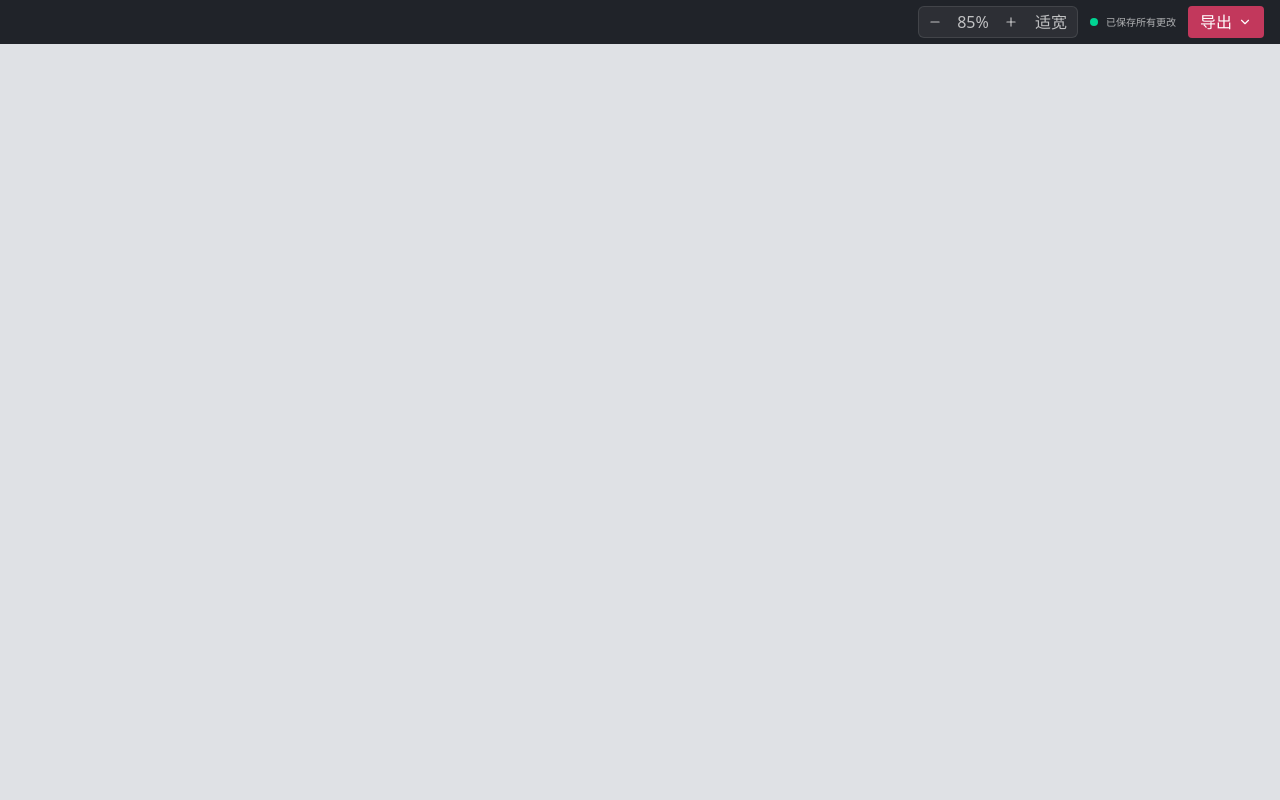
BlockNoteCanvasToolbar › closes on Escape or an outside pointer and restores focus on Escape
Click the button "导出" at (1226, 22), box [1188,6,1264,38]
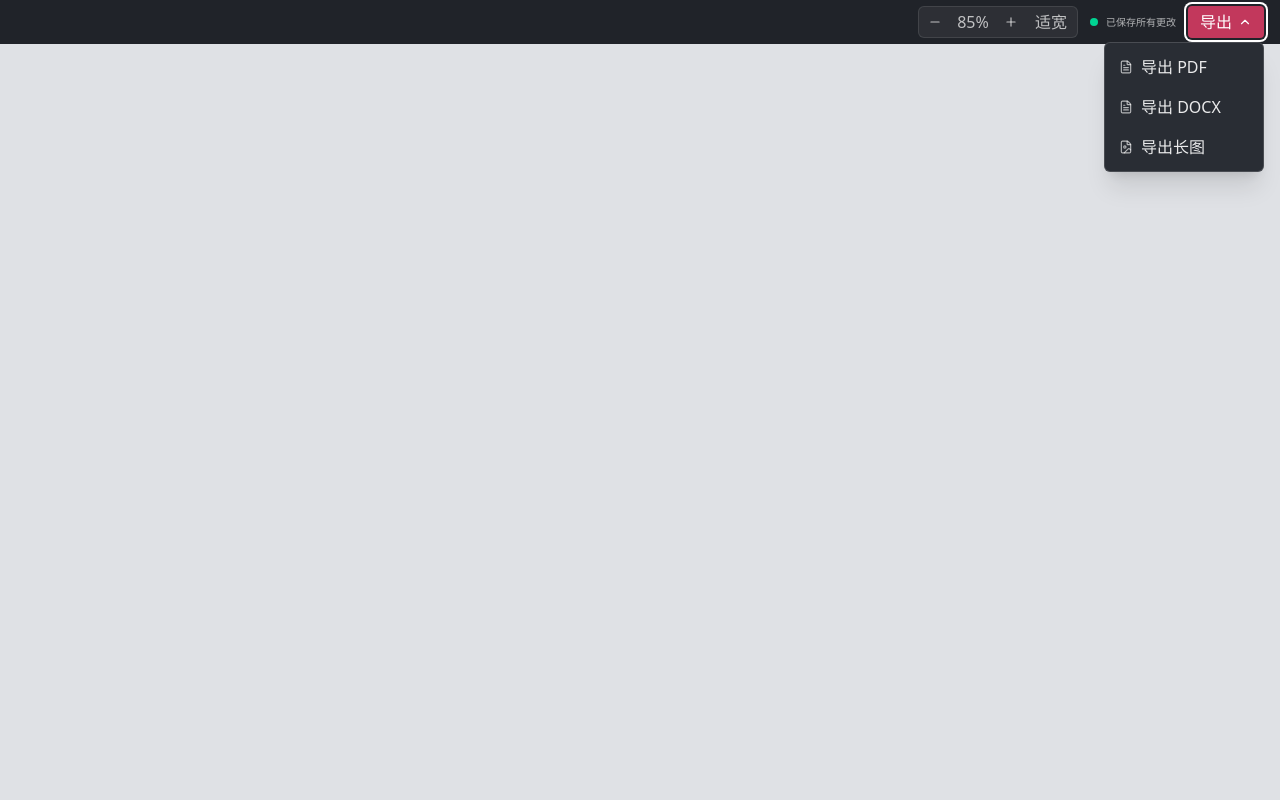
Click the element showing "85% 适宽 已保存所有更改 导出 导出 PDF 导出 DOCX 导出长图" at (640, 400), box [0,0,1279,799]
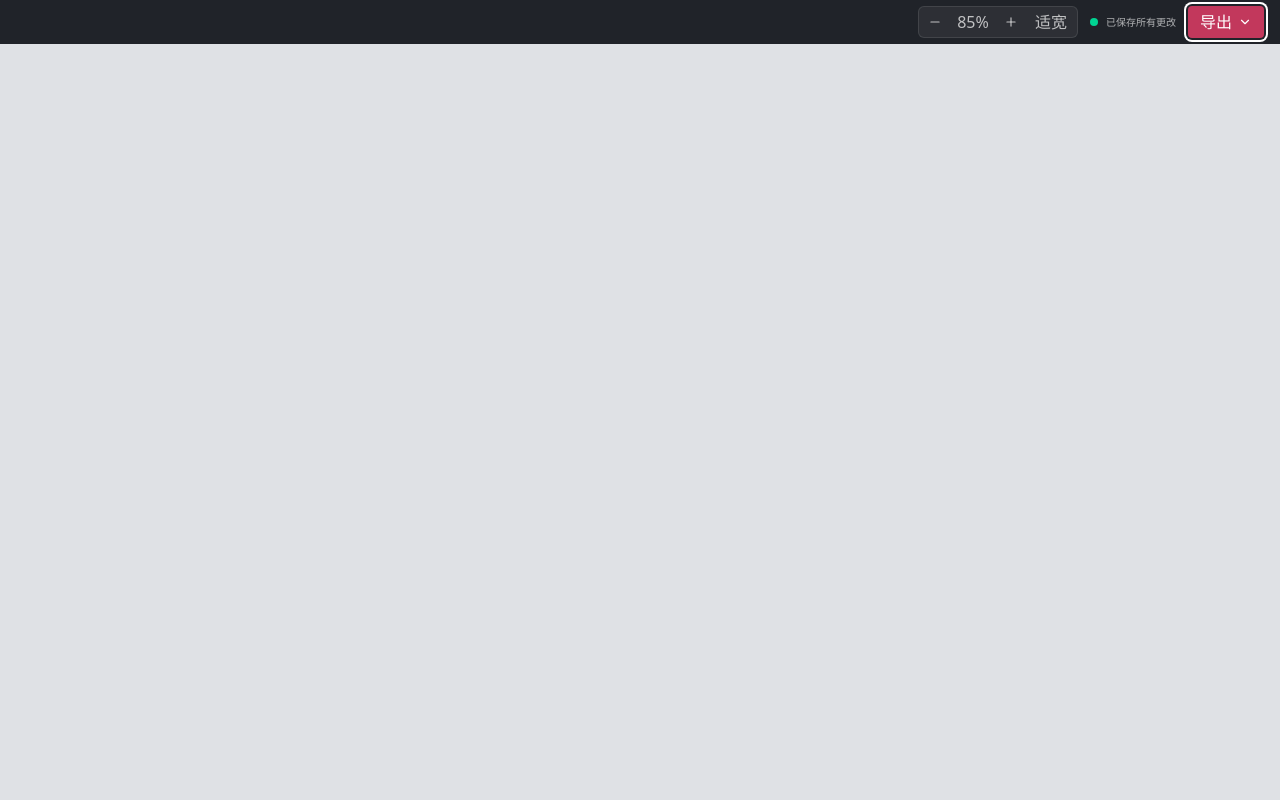
Check: the menu is gone
Press Arrowdown
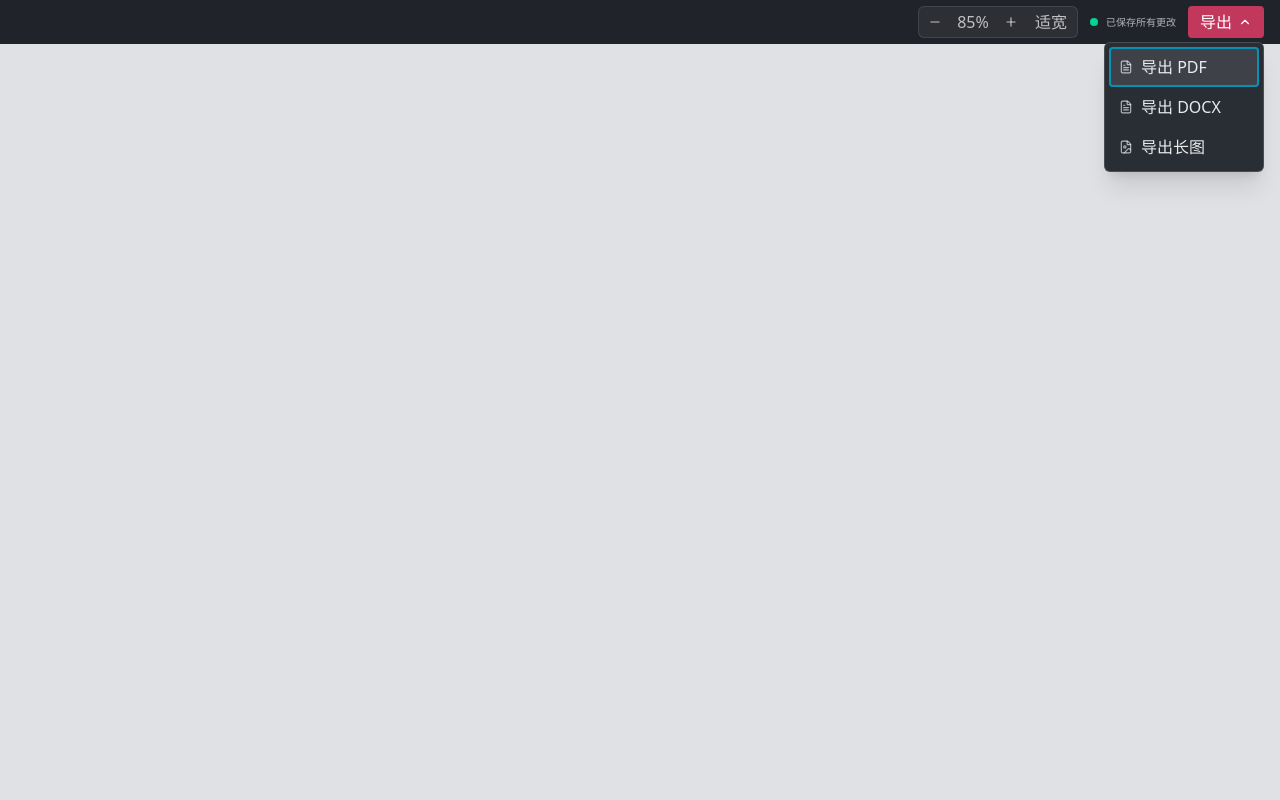
Press Escape
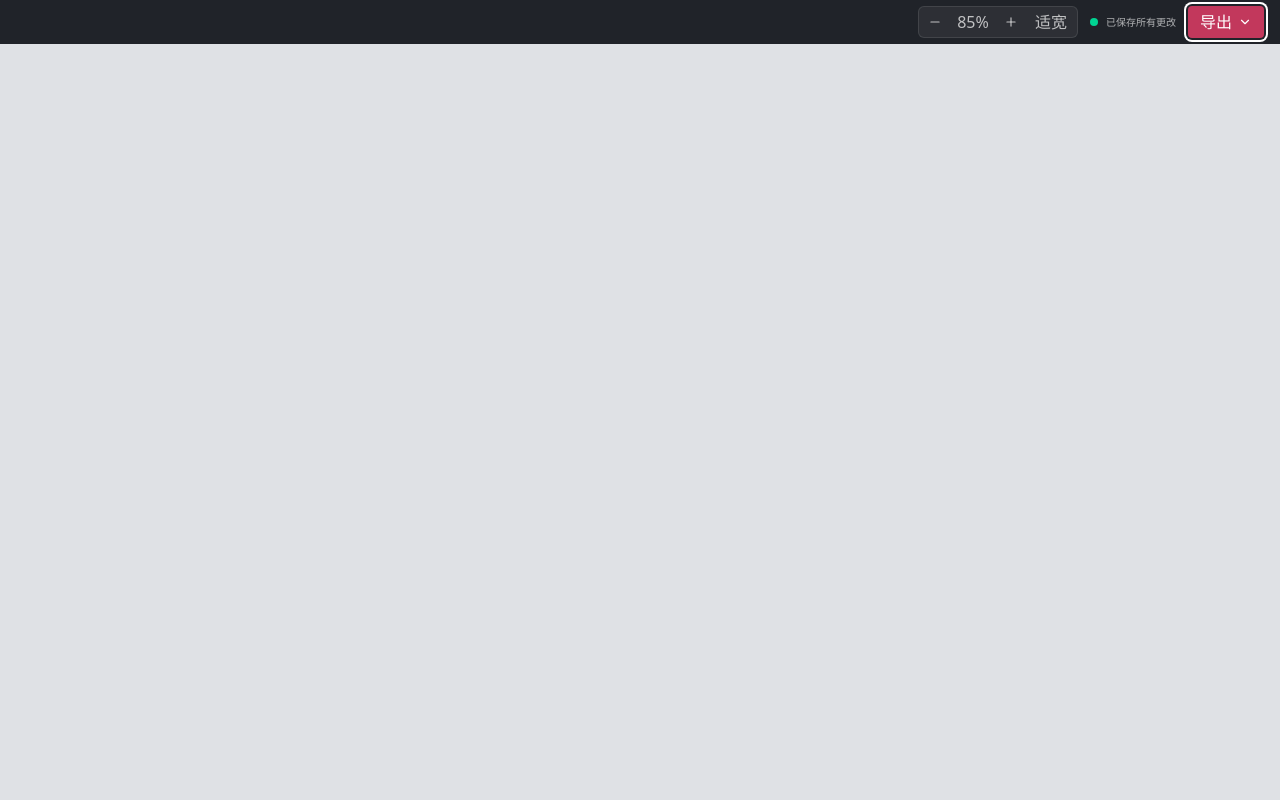
Check: the menu is gone
